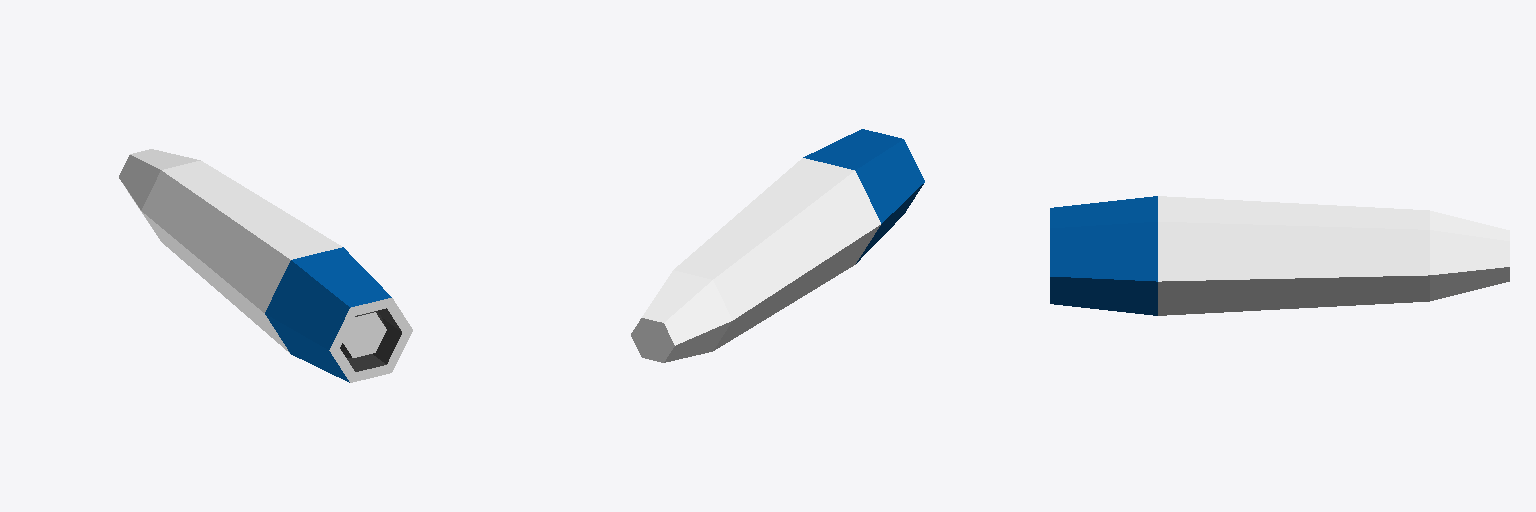
Rendered from gun.obj.
3 renders of one model, left to right at view 1: azimuth 30°, elevation 25°; view 2: azimuth 150°, elevation 25°; view 3: azimuth 270°, elevation 25°, orthographic.
Size of the model in its own units: 0.231 by 0.1987 by 0.8794.